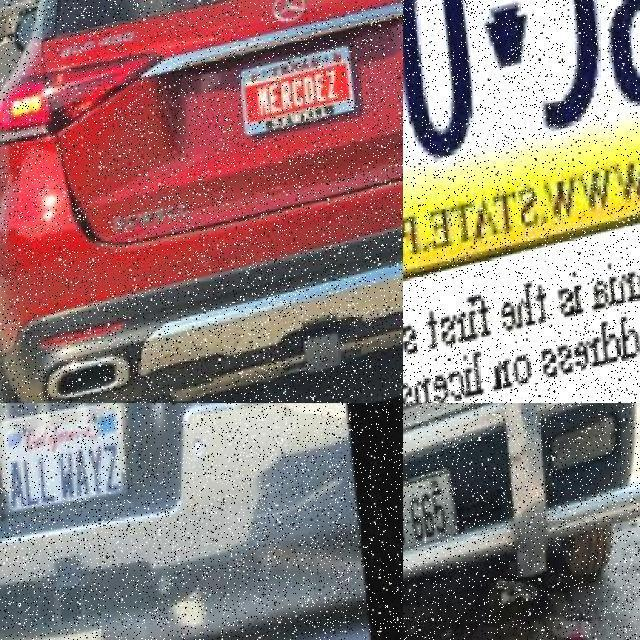LicensePlate: (403, 0, 640, 263), (0, 403, 142, 526), (242, 48, 360, 139), (403, 471, 468, 574)
